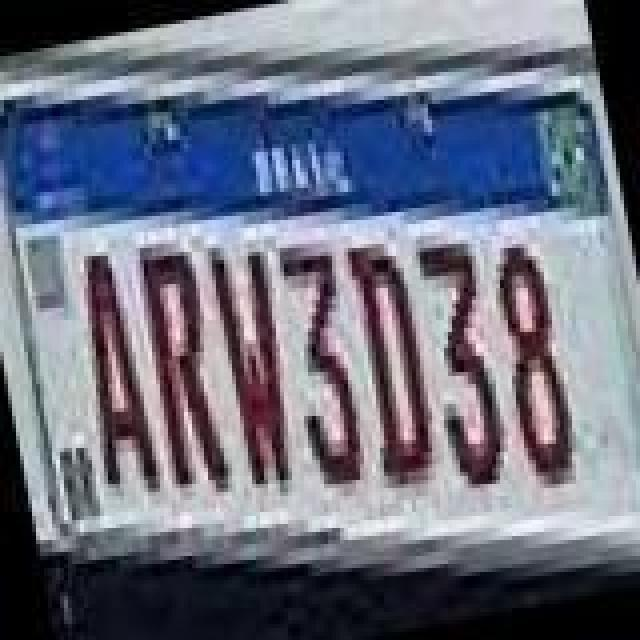3: (406, 232, 522, 504), (264, 236, 376, 500)
8: (482, 228, 590, 492)
A: (62, 248, 162, 504)
D: (336, 226, 448, 494)
R: (128, 232, 240, 504)
W: (202, 228, 310, 492)
